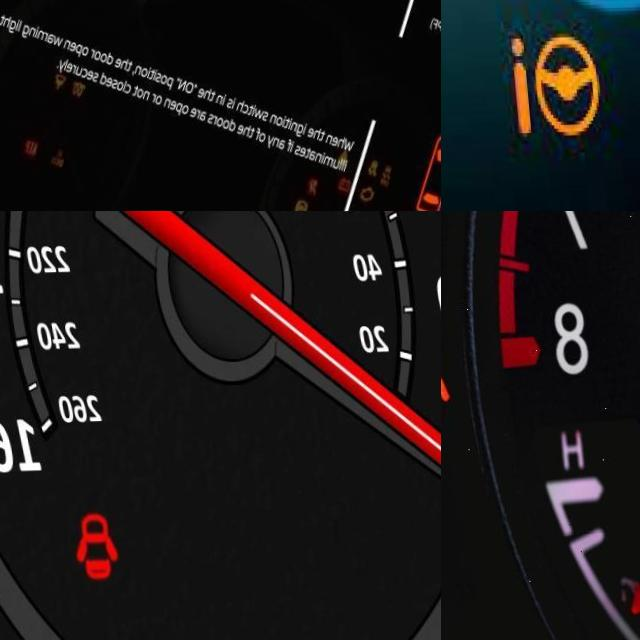Electronic Power Steering: (498, 34, 594, 139)
